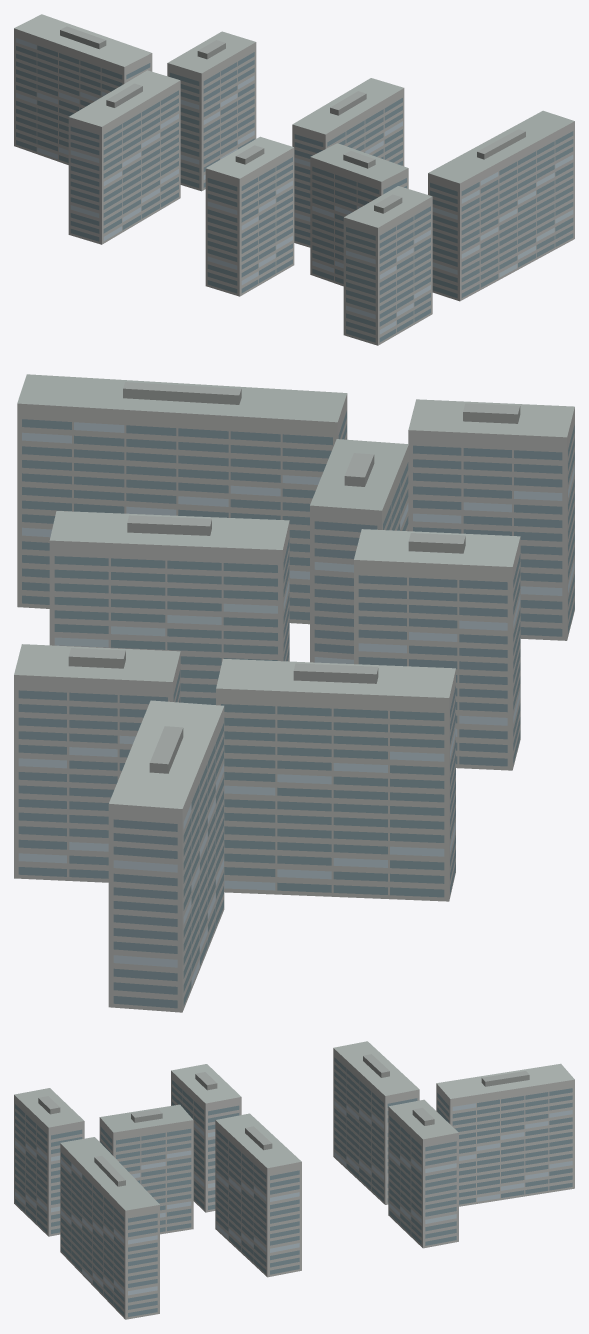
File: apt-a15101503.glb
3 renders of one model, top to bottom at view 1: azimuth 30°, elevation 25°; view 2: azimuth 150°, elevation 25°; view 3: azimuth 270°, elevation 25°, orthographic. The views are drawn at different scales.
Parts seen in each view (by area): view 1: apt-a15101503; view 2: apt-a15101503; view 3: apt-a15101503.
Part boxes in pixels (<box>): apt-a15101503: <box>14,14,574,345</box>; apt-a15101503: <box>14,374,574,1012</box>; apt-a15101503: <box>14,1041,574,1319</box>.
Bounding box in the file's own units: 127 × 40 × 178.
